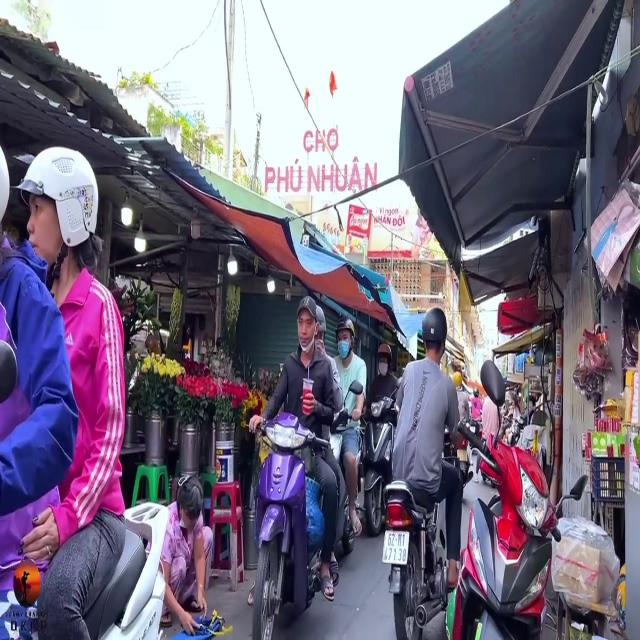bien_trang: (383, 518, 412, 564)
